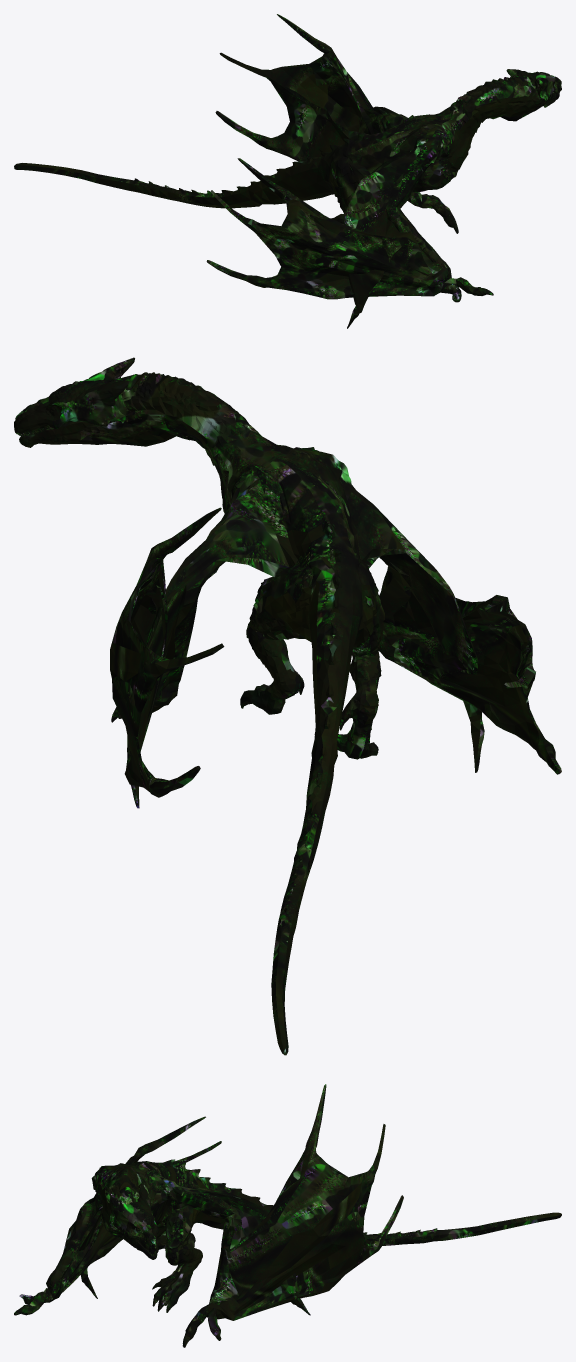
The model's file is frame_0033_uv.obj.
The picture shows the model from 3 angles, top to bottom: view 1: azimuth 30°, elevation 25°; view 2: azimuth 150°, elevation 25°; view 3: azimuth 270°, elevation 25°; orthographic projection. The views are drawn at different scales.
Visible parts, largest first — view 1: pMesh1; view 2: pMesh1; view 3: pMesh1.
Boxes of the visible parts, bbox=[...] form: pMesh1: bbox=[14, 14, 561, 328]; pMesh1: bbox=[14, 357, 561, 1055]; pMesh1: bbox=[14, 1084, 561, 1347].
Bounding box in the file's own units: 1.46 × 0.8927 × 1.89.
